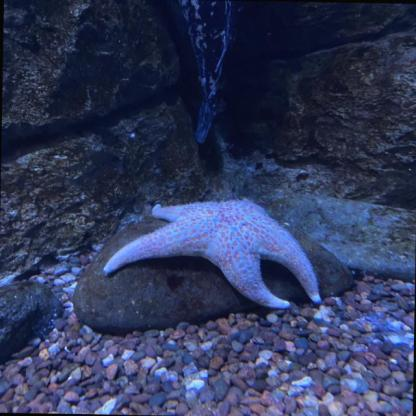starfish: (103, 196, 322, 309)
